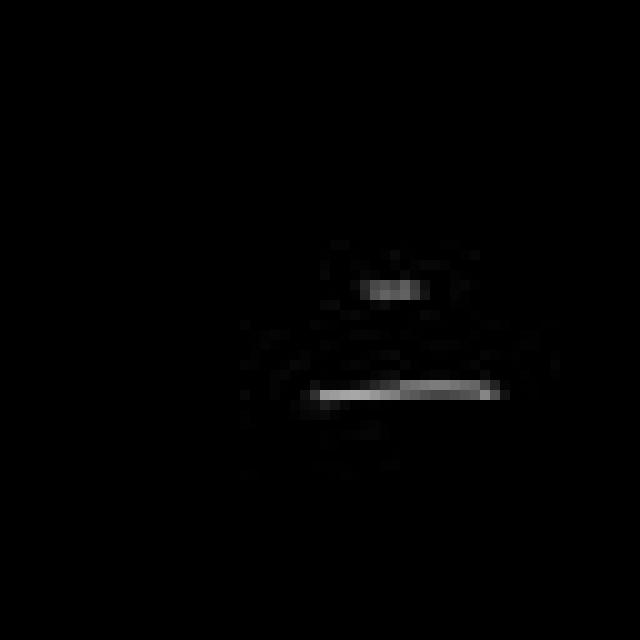2 -two-: (292, 261, 520, 422)
